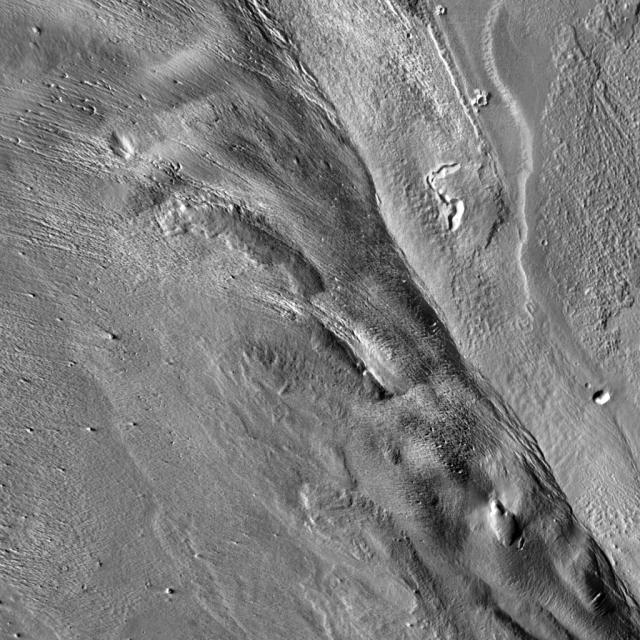crater: (600, 392, 616, 407), (484, 102, 492, 109), (542, 235, 548, 241)
